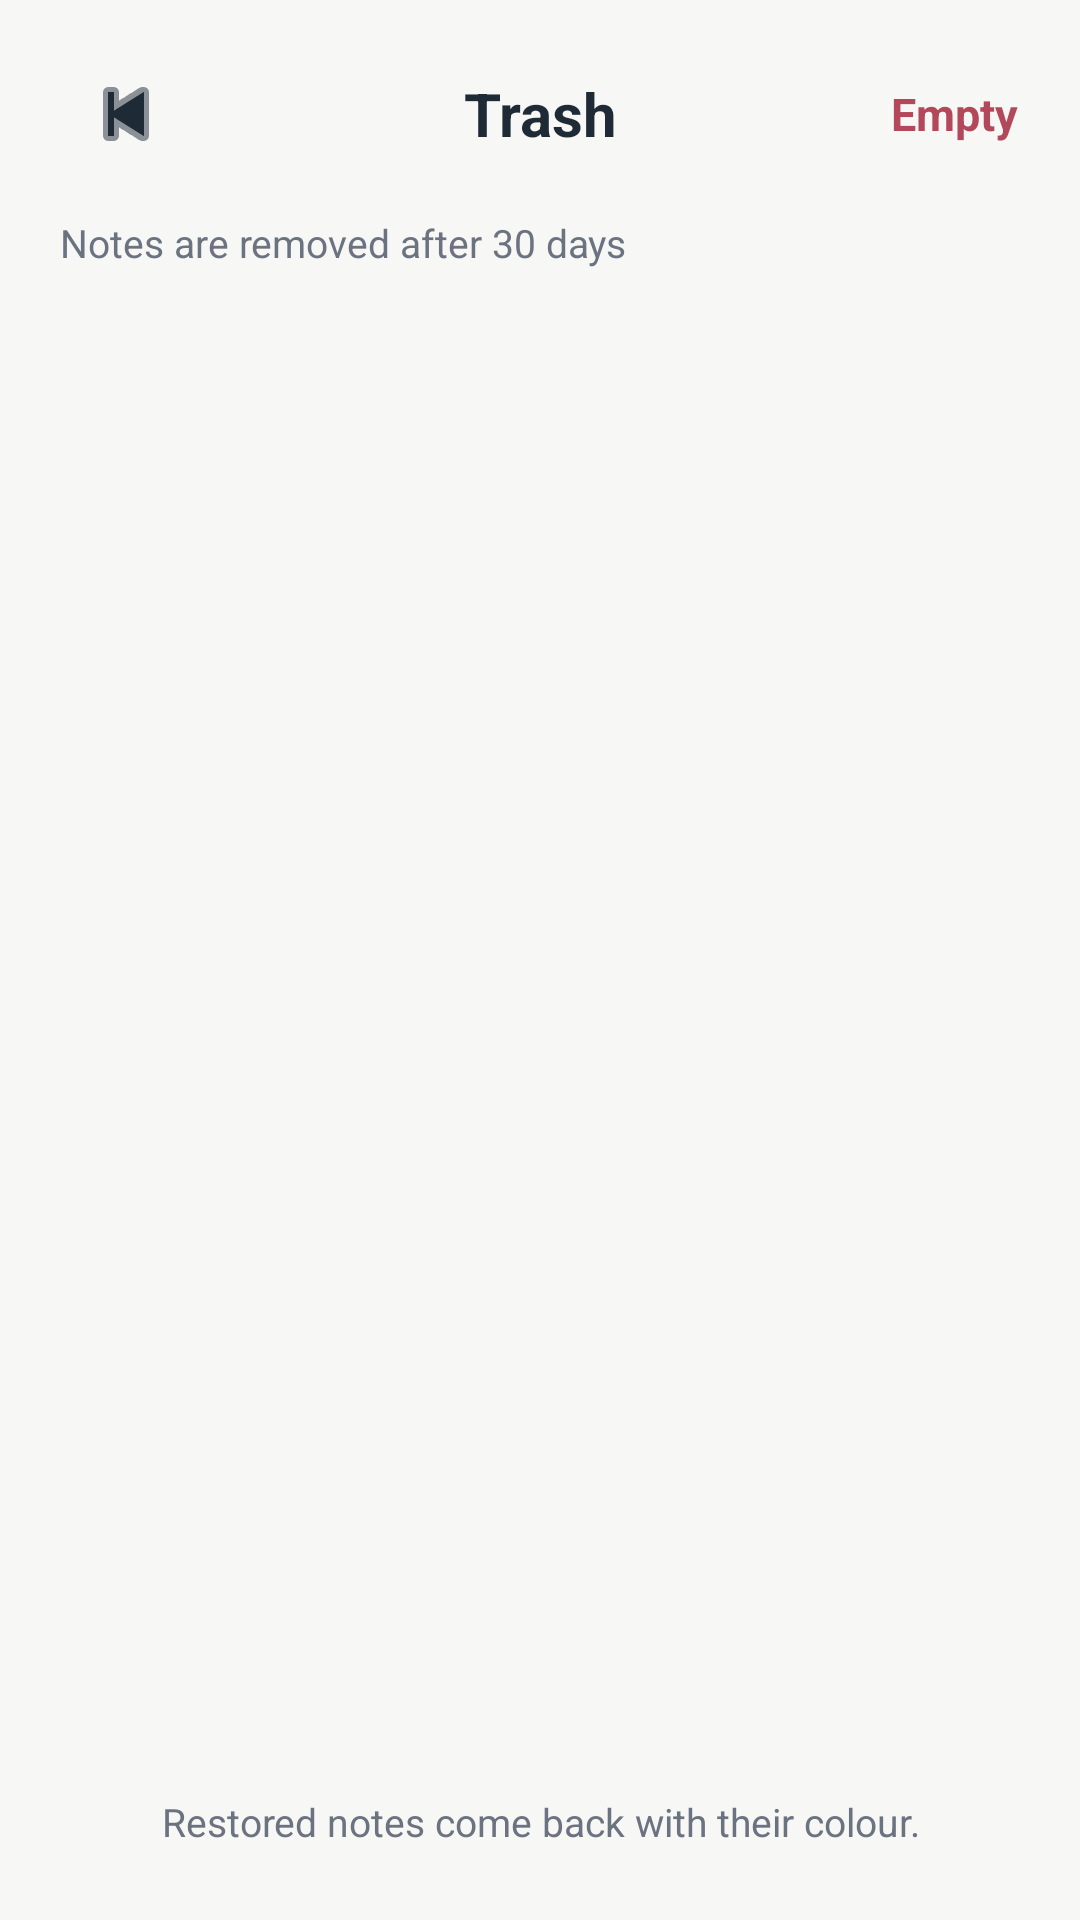

Icon bounding boxes for this 1080*1920 phone screenshot, format rect(x1, y1, x2, y2):
Back: rect(103, 87, 149, 141)
